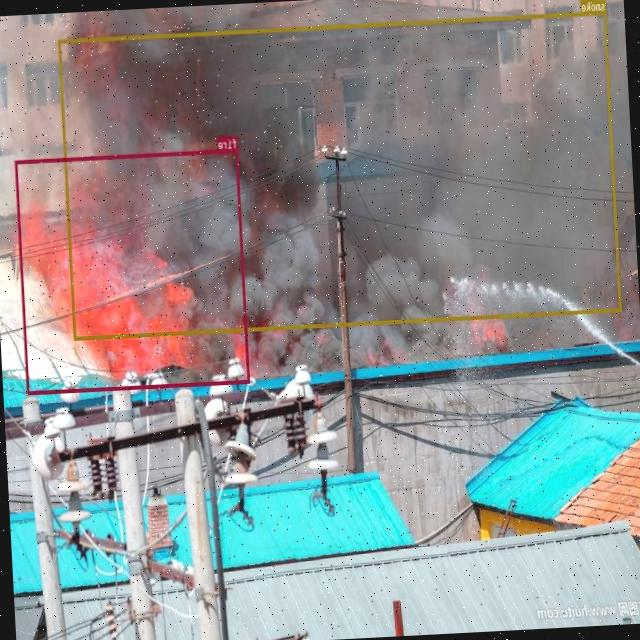fire: (15, 148, 250, 394)
smoke: (58, 11, 622, 340)
